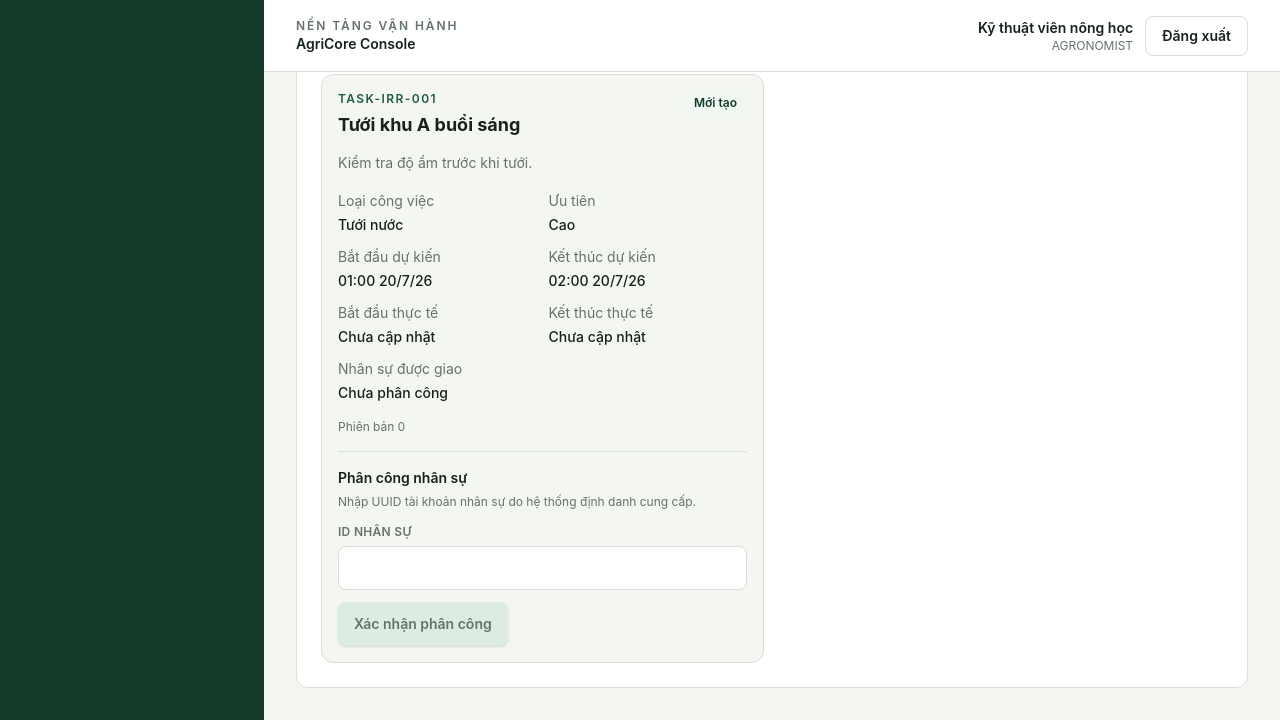
Test: work-task assignment access loss › removes assignment success when list revalidation loses access
(page scrolled)
Expected: the heading "Tưới khu A buổi sáng" is shown, [338, 111, 520, 139]
Step 1. Type "10000000-0000-0000-0000-000000000019" into the field labelled "ID nhân sự" → (542, 568), box [338, 546, 747, 590]
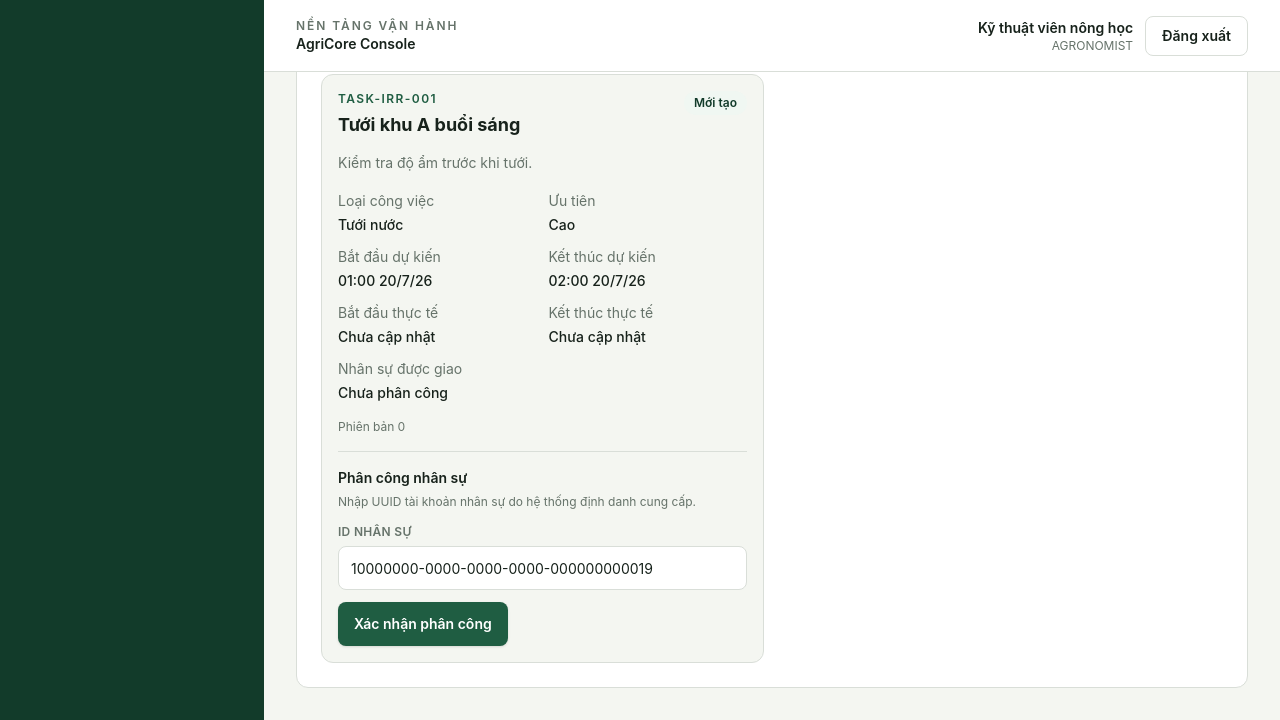
Step 2. Click the button "Xác nhận phân công" → (423, 624), box [338, 602, 508, 646]
(page scrolled)
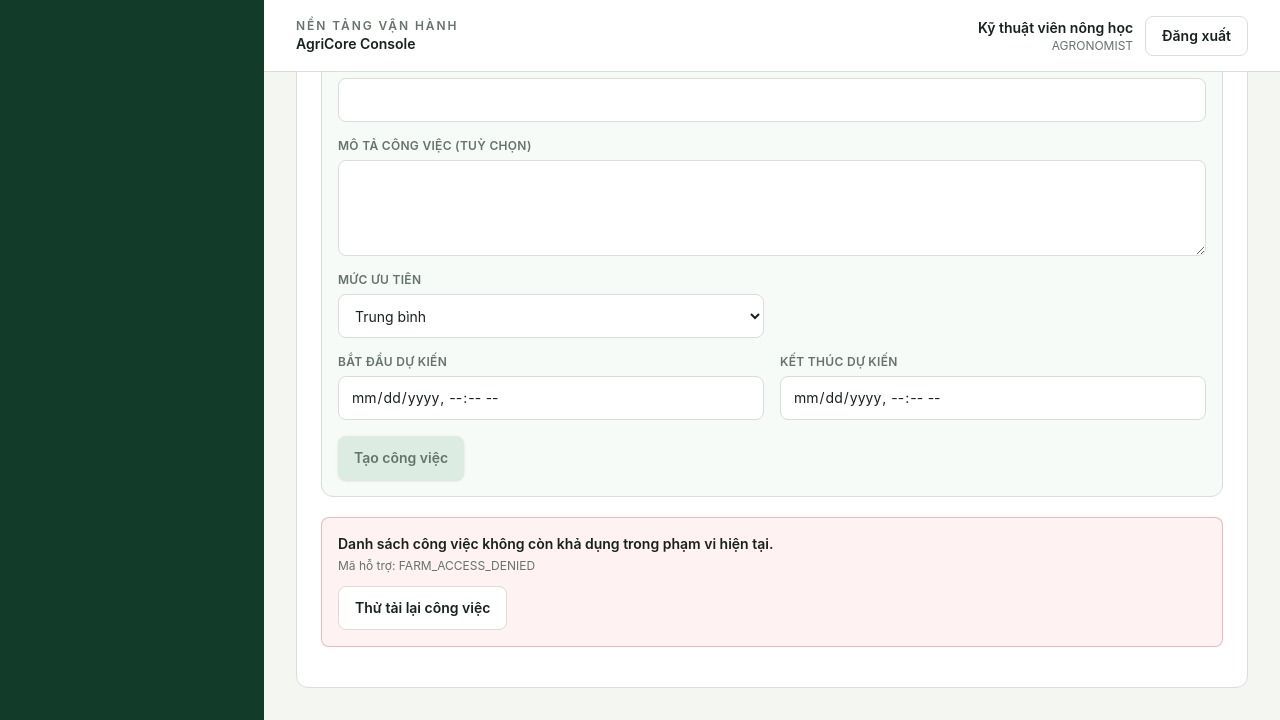
Expected: the message named "Không thể tải công việc" is shown, [321, 517, 1223, 647]
Step 3. Click the button "Thử tải lại công việc" → (423, 608), box [338, 586, 507, 630]
(page scrolled)
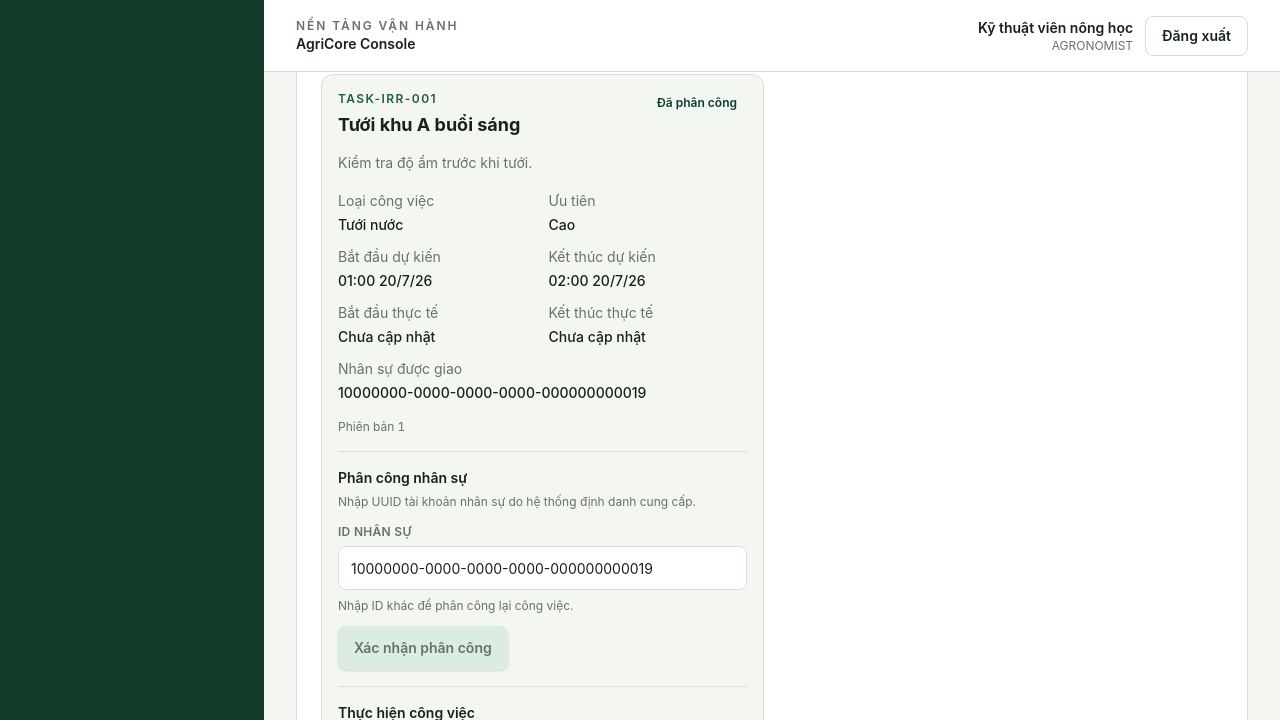
Expected: the text "10000000-0000-0000-0000-000000000019" is shown, [338, 384, 646, 401]
